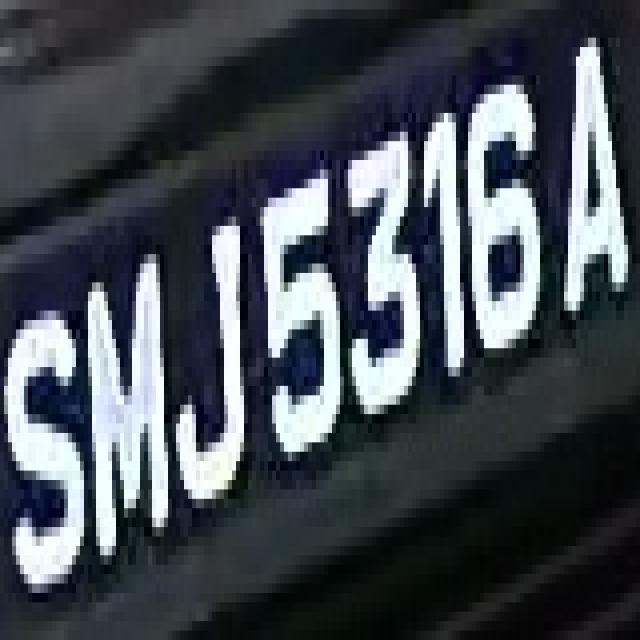1: (420, 76, 472, 423)
3: (340, 122, 416, 433)
5: (252, 160, 348, 489)
6: (456, 85, 552, 376)
A: (552, 28, 636, 339)
J: (164, 179, 248, 536)
M: (76, 235, 176, 565)
S: (0, 292, 88, 602)
